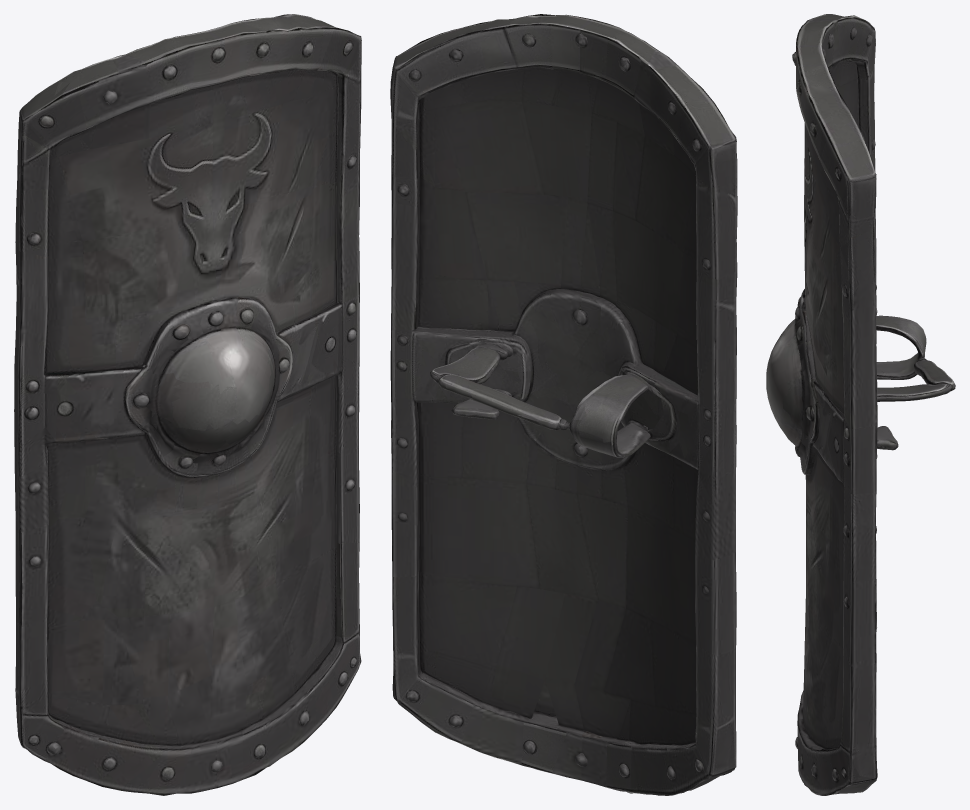
Rendered from muro_minotauro_sumo.glb.
The picture shows the model from 3 angles, left to right: view 1: azimuth 30°, elevation 25°; view 2: azimuth 150°, elevation 25°; view 3: azimuth 270°, elevation 25°; orthographic projection. The views are drawn at different scales.
Visible parts, largest first — view 1: mesh_node; view 2: mesh_node; view 3: mesh_node.
Boxes of the visible parts, box(x1,y1,x2,y2) form: mesh_node: box(14, 14, 361, 795); mesh_node: box(390, 14, 737, 795); mesh_node: box(766, 14, 955, 795).
Bounding box in the file's own units: 0.4775 × 1 × 0.2383.
1 material, 1 textured.
